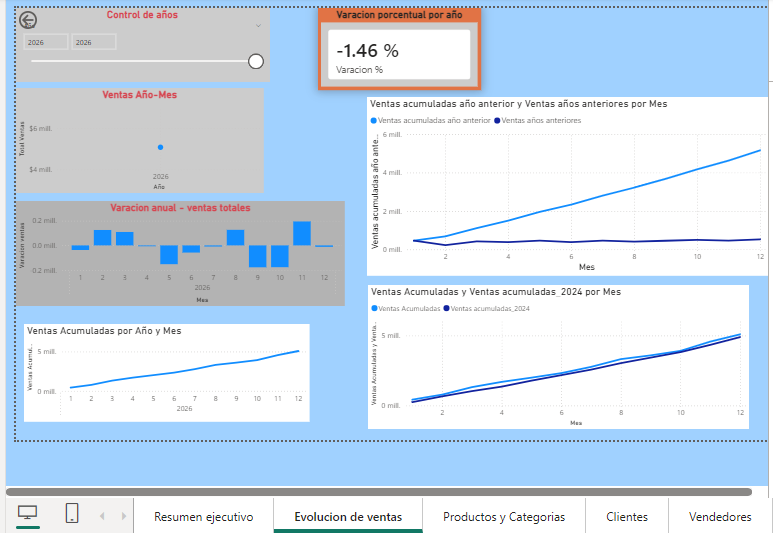

What the dashboard file says about the page in this screenshot:
{"tool":"powerbi","page":{"name":"Evolucion de ventas","canvas":[1280,720],"ordinal":1},"visuals":[{"type":"lineChart","title":"Ventas Año-Mes","fields":{"Y":["FactVentas.Total Ventas"],"Category":["DimFecha.Año","DimFecha.Mes"]},"box":[0,133.3,412.5,175],"z":0},{"type":"columnChart","title":"Varacion anual - ventas totales","fields":{"Category":["DimFecha.Año","DimFecha.Mes"],"Y":["FactVentas.Varacion ventas"]},"box":[0,320.9,548.3,175],"z":1000},{"type":"slicer","title":"Control de años","fields":{"Values":["DimFecha.Año"]},"box":[0,0,421.7,121.7],"z":2000},{"type":"cardVisual","title":"Varacion porcentual por año","fields":{"Data":["FactVentas.Varacion %"]},"box":[503.8,0,271.7,136.7],"z":3000},{"type":"actionButton","box":[0,0,100,40],"z":4000},{"type":"lineChart","fields":{"Category":["DimFecha.Año","DimFecha.Mes"],"Y":["FactVentas.Ventas Acumuladas"]},"box":[12.5,526.2,476.2,162.5],"z":5000},{"type":"lineChart","fields":{"Category":["DimFecha.Mes"],"Y":["FactVentas.Ventas acumuladas año anterior","FactVentas.Ventas años anteriores"]},"box":[585,148.8,670,297.5],"z":6000},{"type":"lineChart","fields":{"Category":["DimFecha.Mes"],"Y":["FactVentas.Ventas Acumuladas","FactVentas.Ventas acumuladas_2024"]},"box":[586,462,635,240],"z":7000}]}

Visuals, with their boxes on the page's 1280x720 design canvas (x1, y1, x2, y2). These are canvas units, not pixel positions in the 773x533 screenshot, which may show the page scaled, cropped or inside an application window:
"Ventas Año-Mes" lineChart: box(0, 133, 412, 308)
"Varacion anual - ventas totales" columnChart: box(0, 321, 548, 496)
"Control de años" slicer: box(0, 0, 422, 122)
"Varacion porcentual por año" cardVisual: box(504, 0, 776, 137)
actionButton: box(0, 0, 100, 40)
lineChart - DimFecha.Año x DimFecha.Mes: box(12, 526, 489, 689)
lineChart - DimFecha.Mes x FactVentas.Ventas acumuladas año anterior: box(585, 149, 1255, 446)
lineChart - DimFecha.Mes x FactVentas.Ventas Acumuladas: box(586, 462, 1221, 702)
